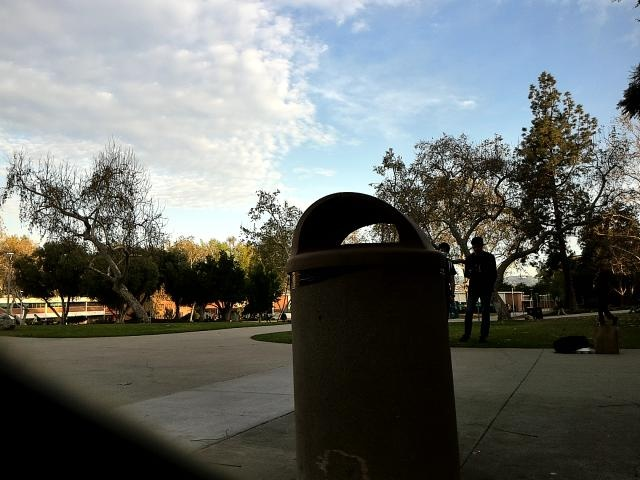trashcan: (282, 184, 473, 480)
